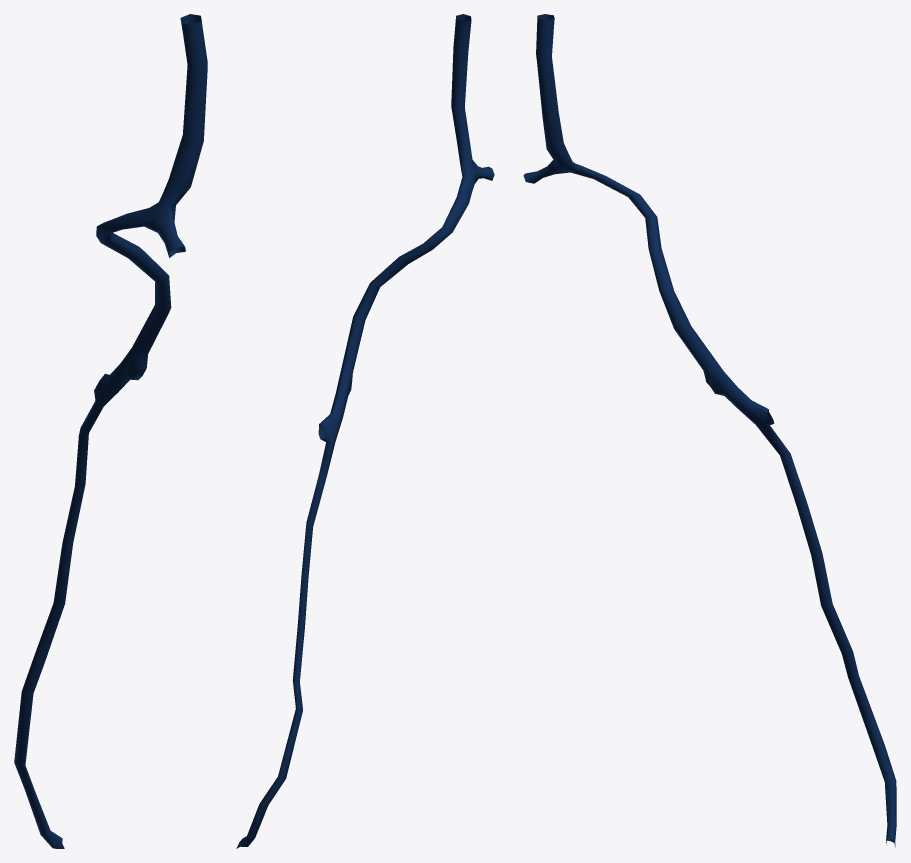
The model's file is L vena mediana.fbx.
3 renders of one model, left to right at view 1: azimuth 30°, elevation 25°; view 2: azimuth 150°, elevation 25°; view 3: azimuth 270°, elevation 25°, orthographic. The views are drawn at different scales.
Visible parts, largest first — view 1: L vena mediana, L vena mediana low; view 2: L vena mediana, L vena mediana low; view 3: L vena mediana, L vena mediana low.
Boxes of the visible parts, left/top/right/bottom form: L vena mediana: left=14, top=14, right=207, bottom=848; L vena mediana low: left=16, top=15, right=206, bottom=847; L vena mediana: left=236, top=14, right=494, bottom=848; L vena mediana low: left=241, top=15, right=491, bottom=845; L vena mediana: left=523, top=14, right=896, bottom=847; L vena mediana low: left=525, top=14, right=896, bottom=841.
Size of the model in its own units: 3 by 21.77 by 9.24.
